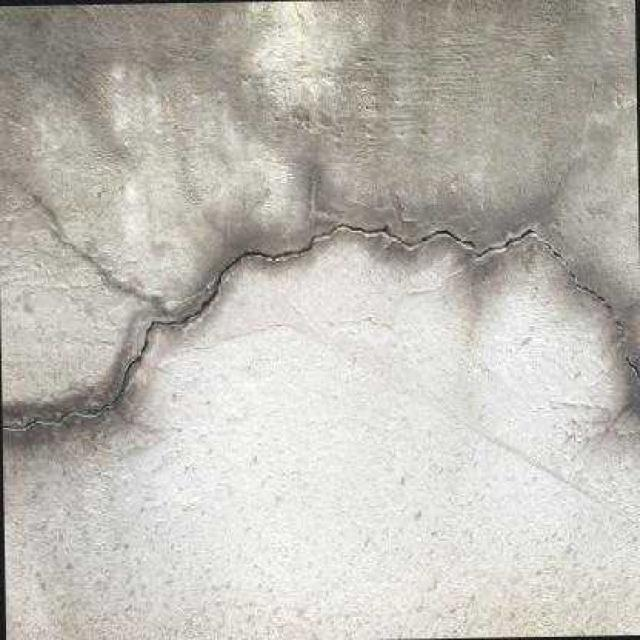D00: (2, 223, 640, 433)
